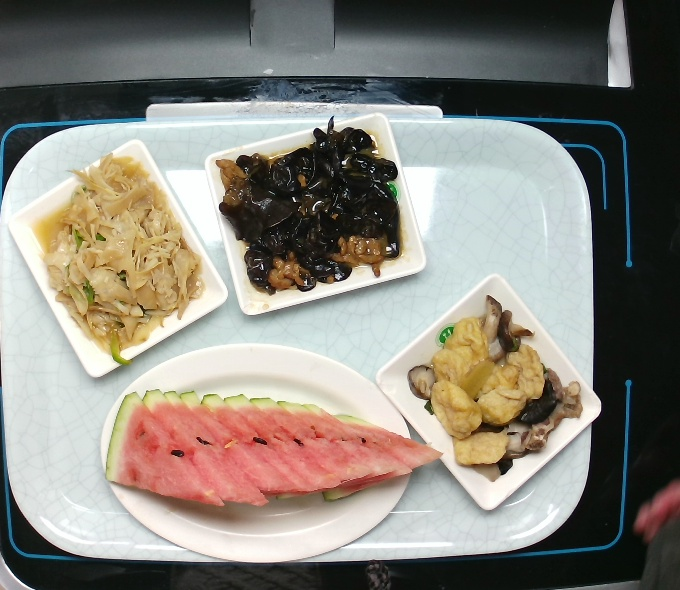wcq-LuSun: (26, 154, 210, 354)
wcq-MuErChaoRou: (212, 122, 400, 289)
wcq-XiGua: (100, 382, 456, 516)
wcq-YouPaoPaiGu: (410, 297, 590, 480)
